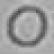no answer: (1, 2, 51, 49)
